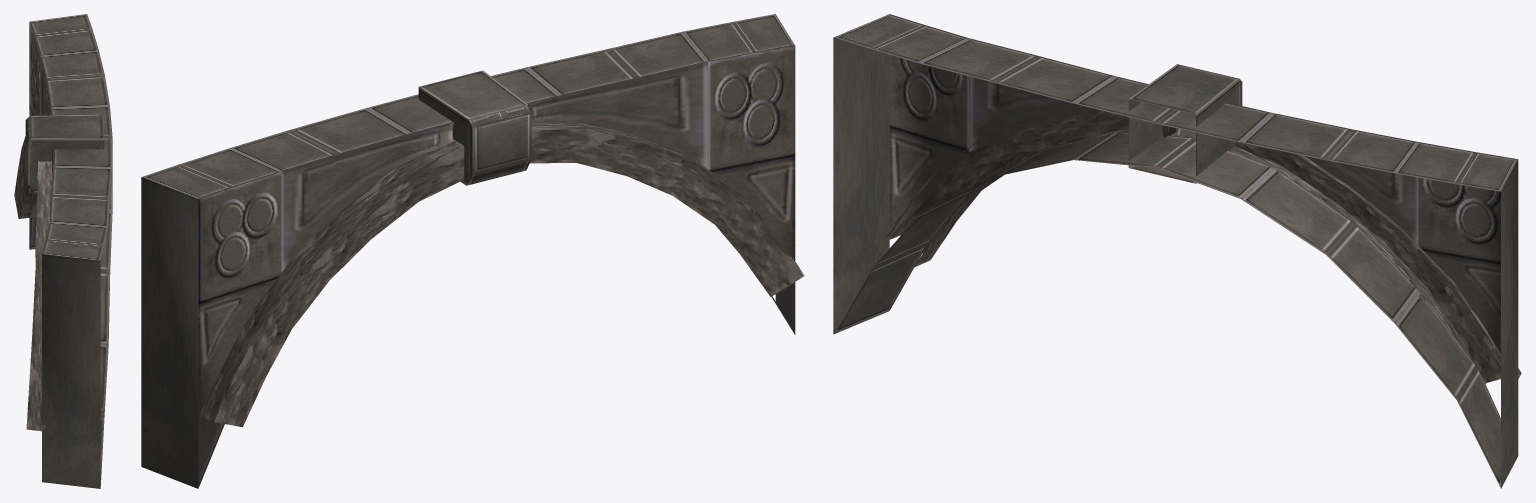
Rendered from CH09_SMAUG_PLAYSURFACE_LAIR35.fbx.
3 views of the same model, side by side, from view 1: azimuth 30°, elevation 25°; view 2: azimuth 150°, elevation 25°; view 3: azimuth 270°, elevation 25° (orthographic). The views are drawn at different scales.
Visible parts, largest first — view 1: CH09_SMAUG_PLAYSURFACE_LAIR35; view 2: CH09_SMAUG_PLAYSURFACE_LAIR35; view 3: CH09_SMAUG_PLAYSURFACE_LAIR35.
Boxes of the visible parts, box(x1,y1,x2,y2) form: CH09_SMAUG_PLAYSURFACE_LAIR35: box(14, 14, 112, 488); CH09_SMAUG_PLAYSURFACE_LAIR35: box(141, 14, 804, 488); CH09_SMAUG_PLAYSURFACE_LAIR35: box(833, 14, 1521, 488).
Bounding box in the file's own units: 102056 × 79711 × 160316.
3 materials, 3 textured.
